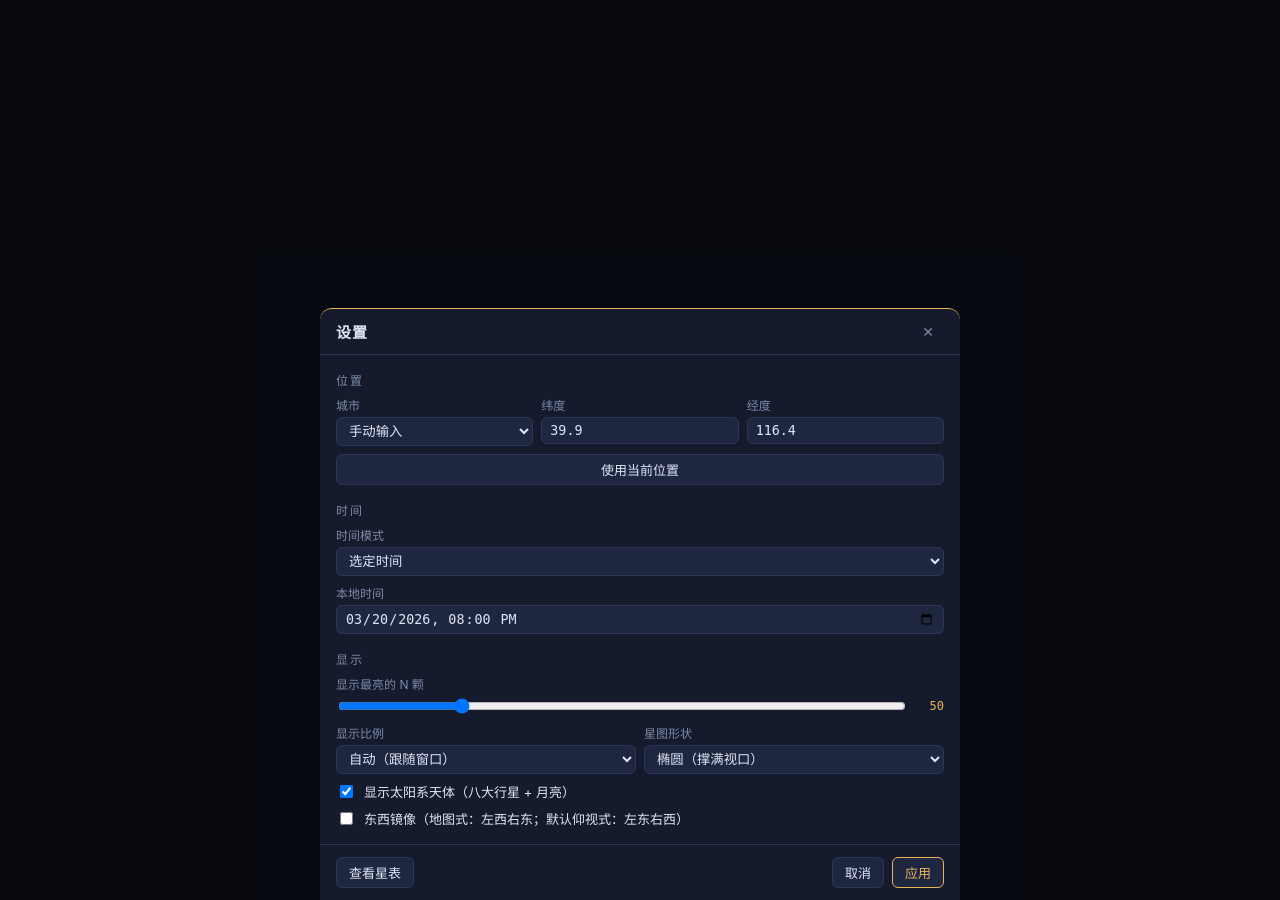
浏览器定位 › 授权成功回填经纬度并复位城市
Select "北京" in the dropdown labelled "城市" at (435, 431), box [336,417,533,446]
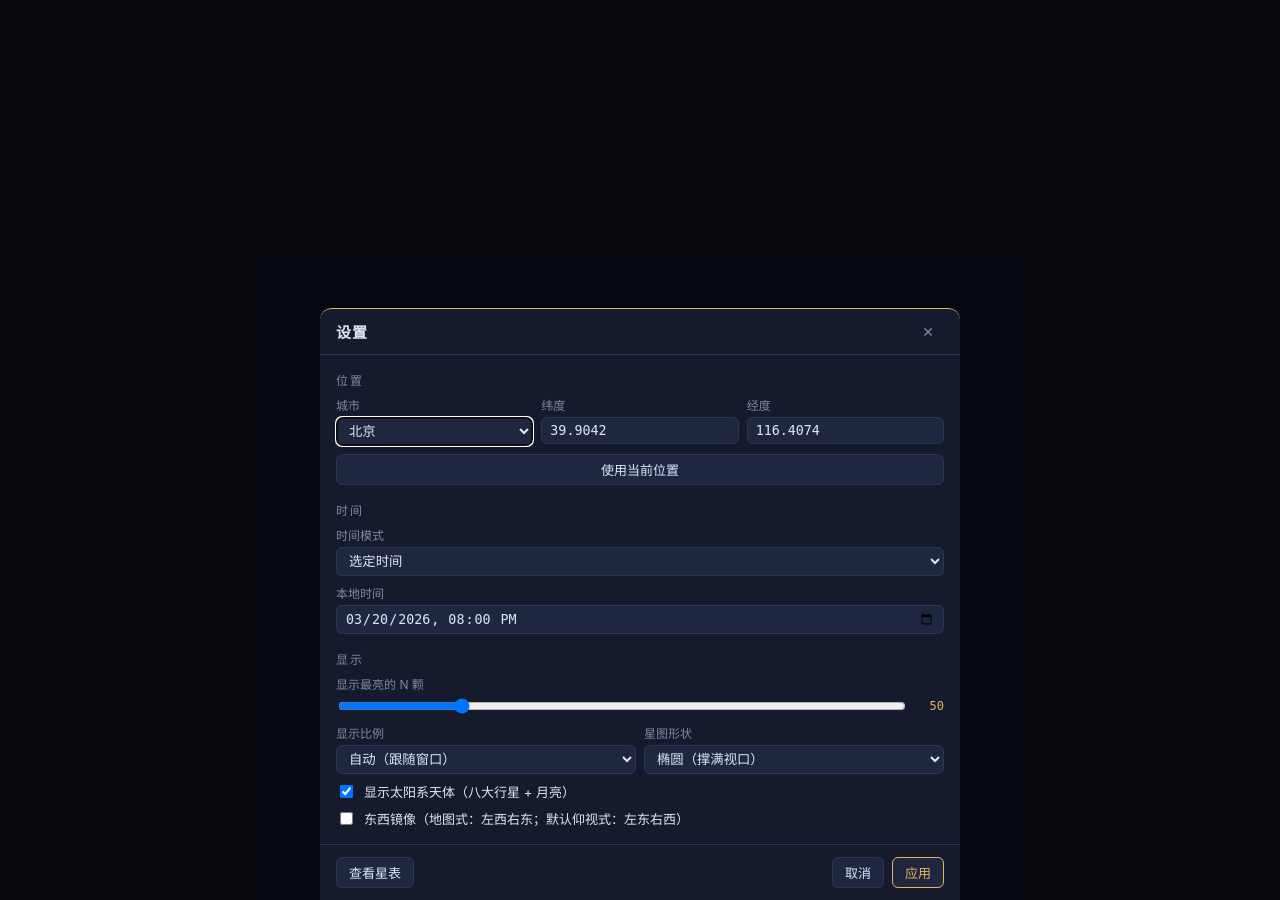
Click the button "使用当前位置" at (640, 469), box [336,454,944,485]
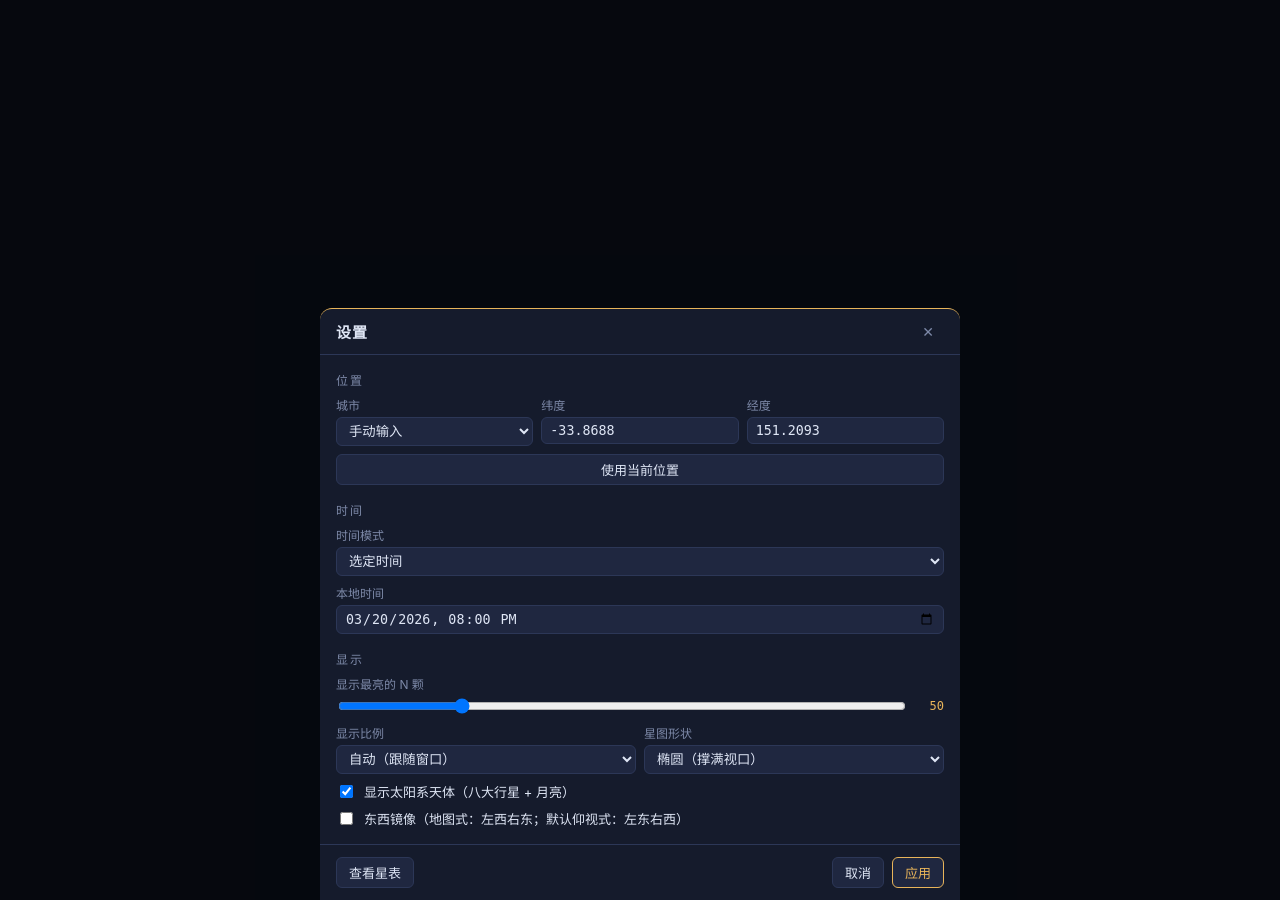
Expected: the field labelled "纬度" holds "-33.8688", [541,417,739,444]
Expected: the field labelled "经度" holds "151.2093", [747,417,944,444]
